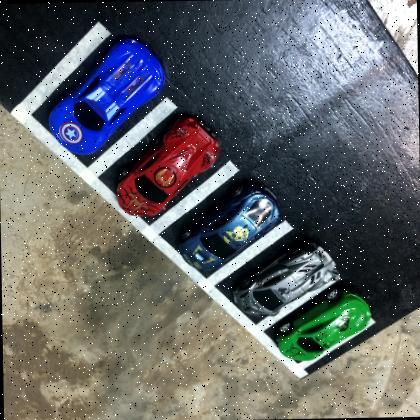Car: (46, 37, 166, 156), (115, 112, 221, 217), (177, 179, 282, 272), (230, 238, 342, 318), (274, 284, 372, 362)
